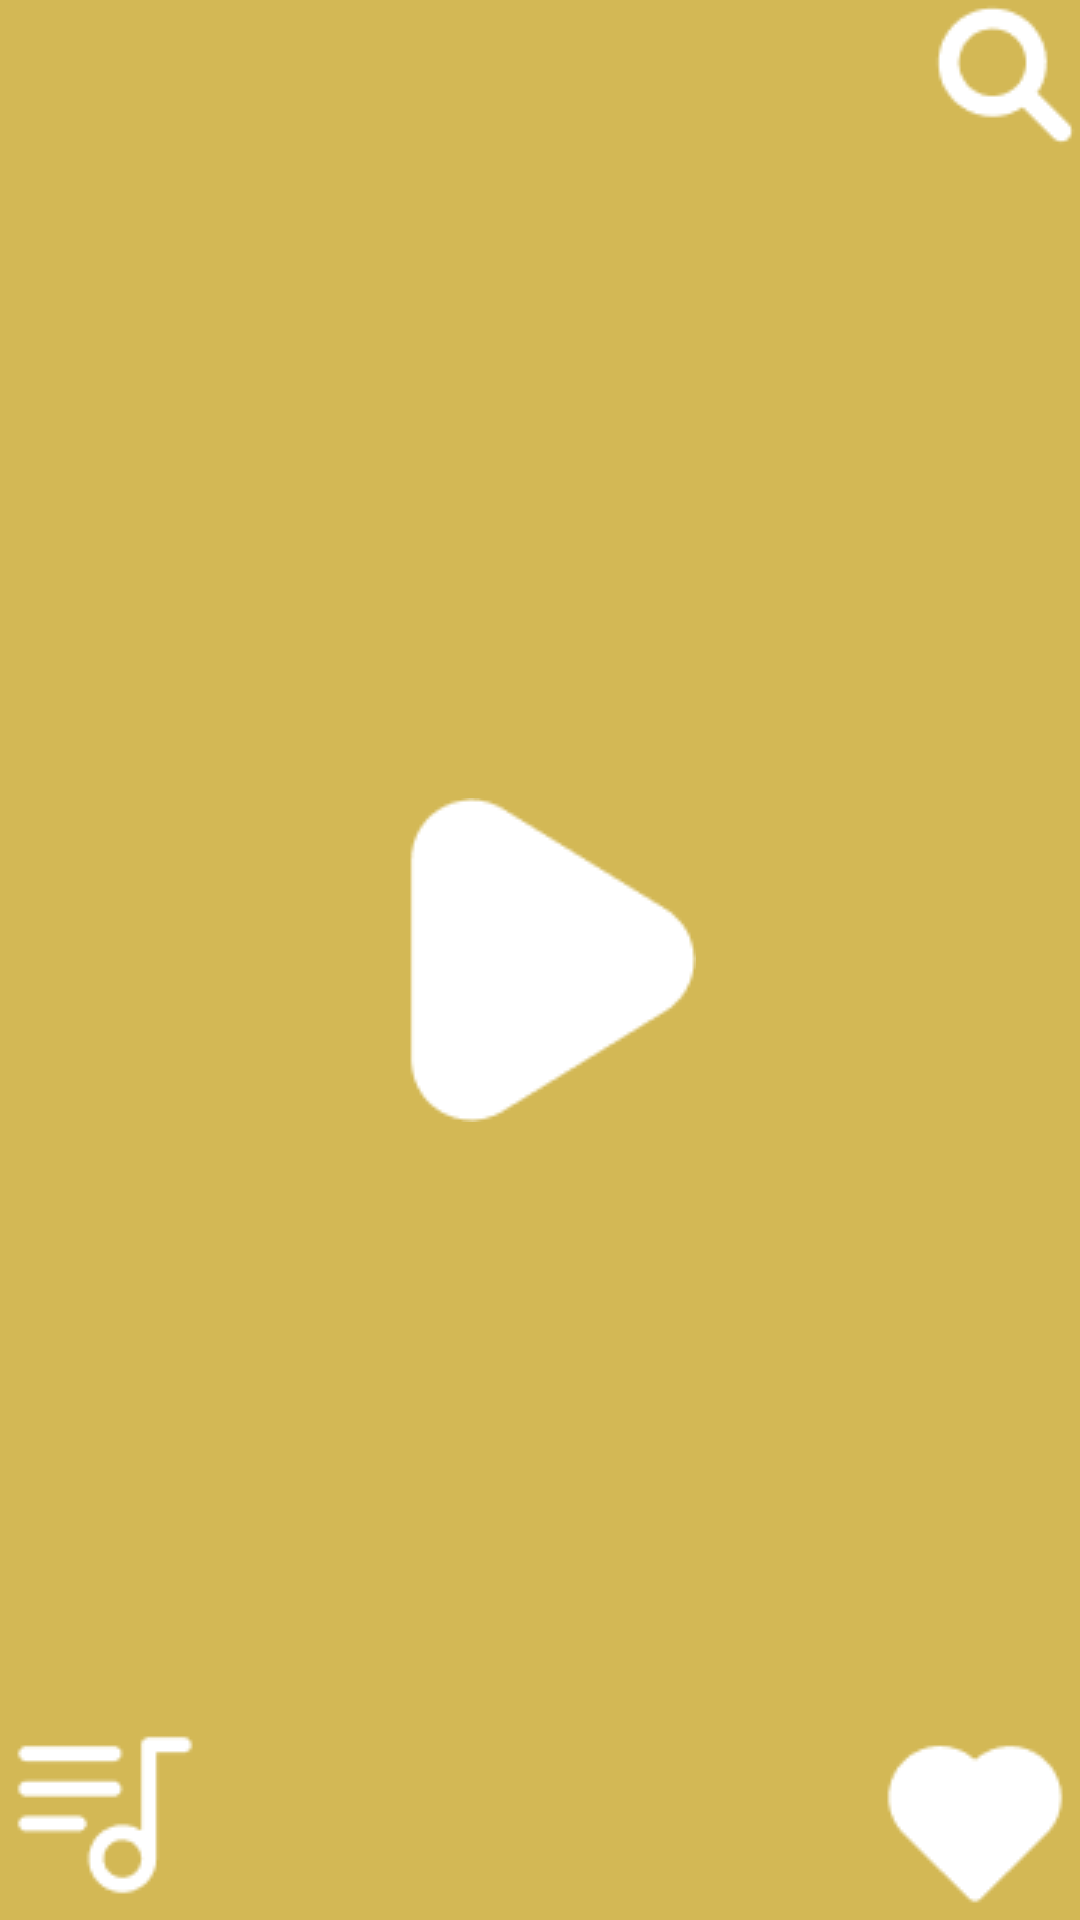

Point at icon controls on the screen. Image size 1080w x 1920h, points as (x,y).
Воспроизвести последний трек: (553,960)
Поиск треков: (1005,75)
Понравившиеся треки: (975,1824)
Текущий плейлист: (105,1815)
